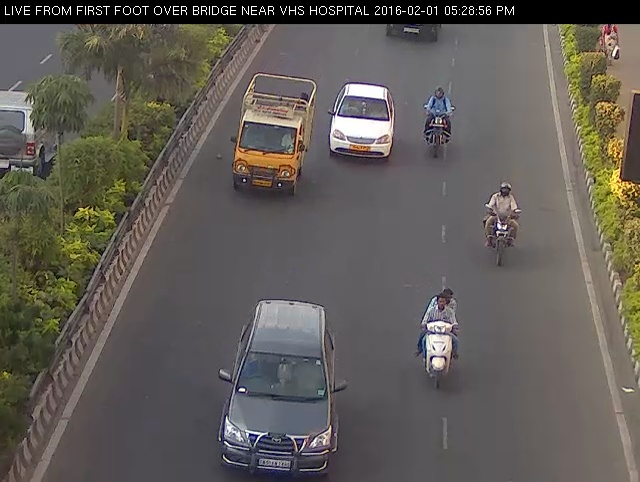Auto: (227, 61, 319, 207)
Car: (212, 289, 355, 482), (318, 75, 406, 172), (378, 15, 445, 50)
Person: (408, 282, 471, 394), (475, 177, 531, 271), (418, 81, 459, 166)
